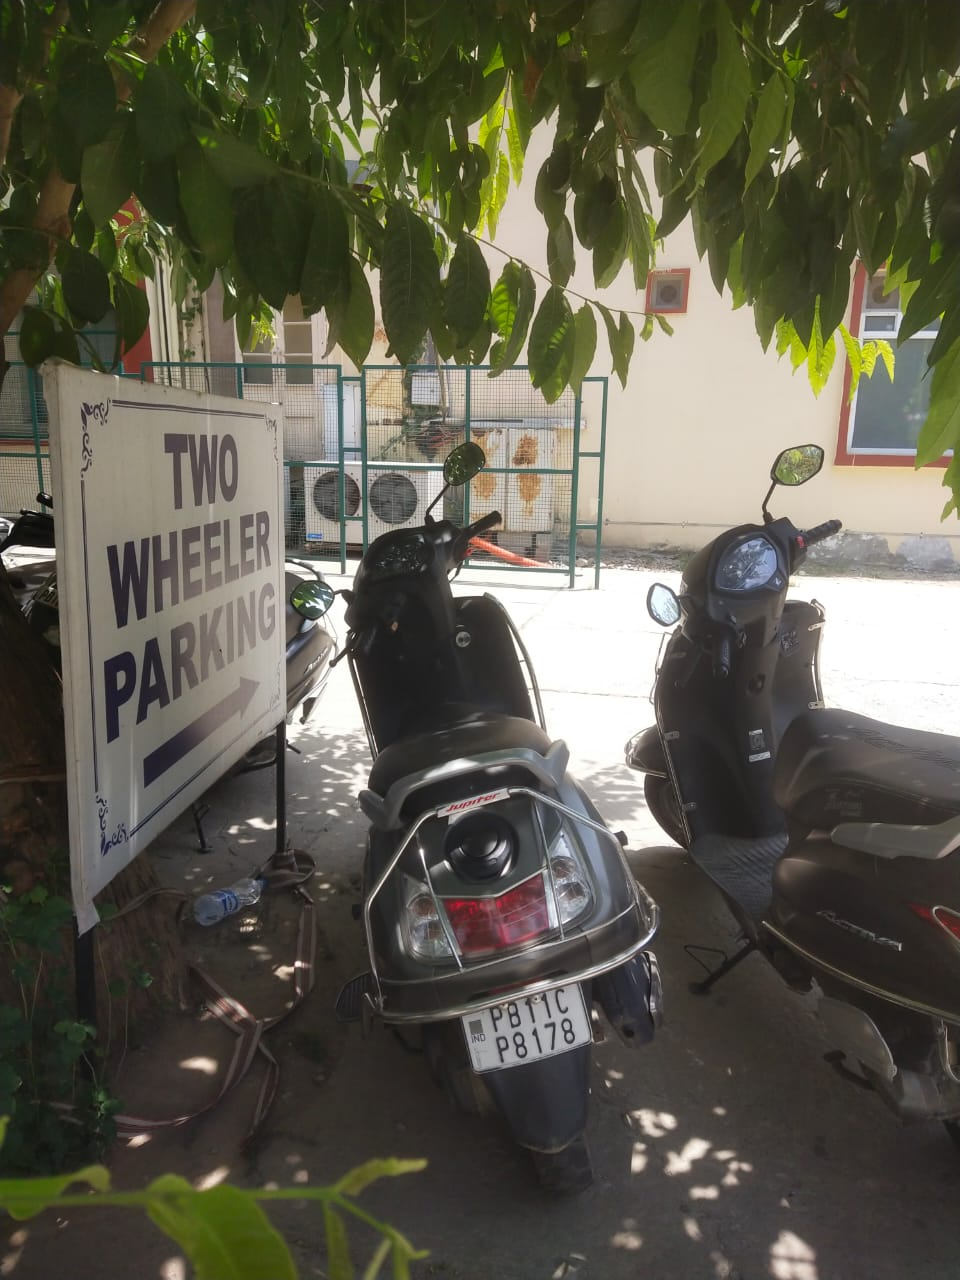license plate: (462, 983, 591, 1072)
